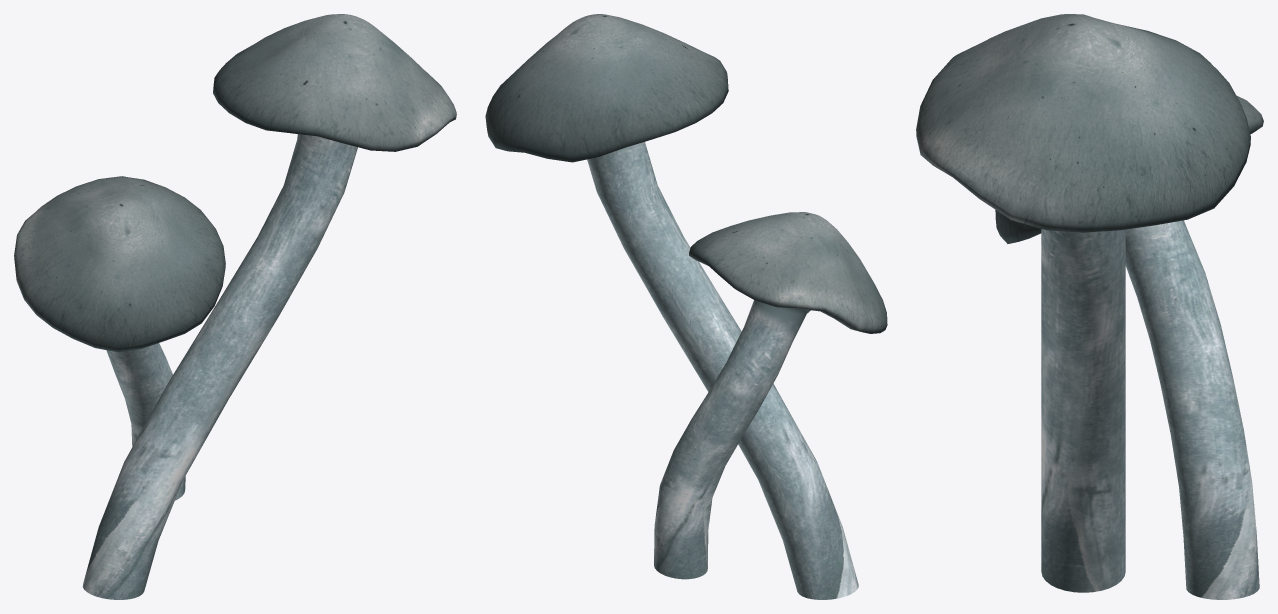
Rendered from mushy1.FBX.
3 renders of one model, left to right at view 1: azimuth 30°, elevation 25°; view 2: azimuth 150°, elevation 25°; view 3: azimuth 270°, elevation 25°, orthographic. The views are drawn at different scales.
Parts seen in each view (by area): view 1: mushy1uv, mushy1uv001; view 2: mushy1uv, mushy1uv001; view 3: mushy1uv, mushy1uv001.
Part boxes in pixels (x1,y1,x2,y2): mushy1uv: [82, 14, 456, 599]; mushy1uv001: [14, 176, 225, 500]; mushy1uv: [485, 14, 858, 599]; mushy1uv001: [654, 212, 887, 579]; mushy1uv: [916, 14, 1250, 592]; mushy1uv001: [995, 95, 1263, 599].
Size of the model in its own units: 130 by 163 by 73.36.
